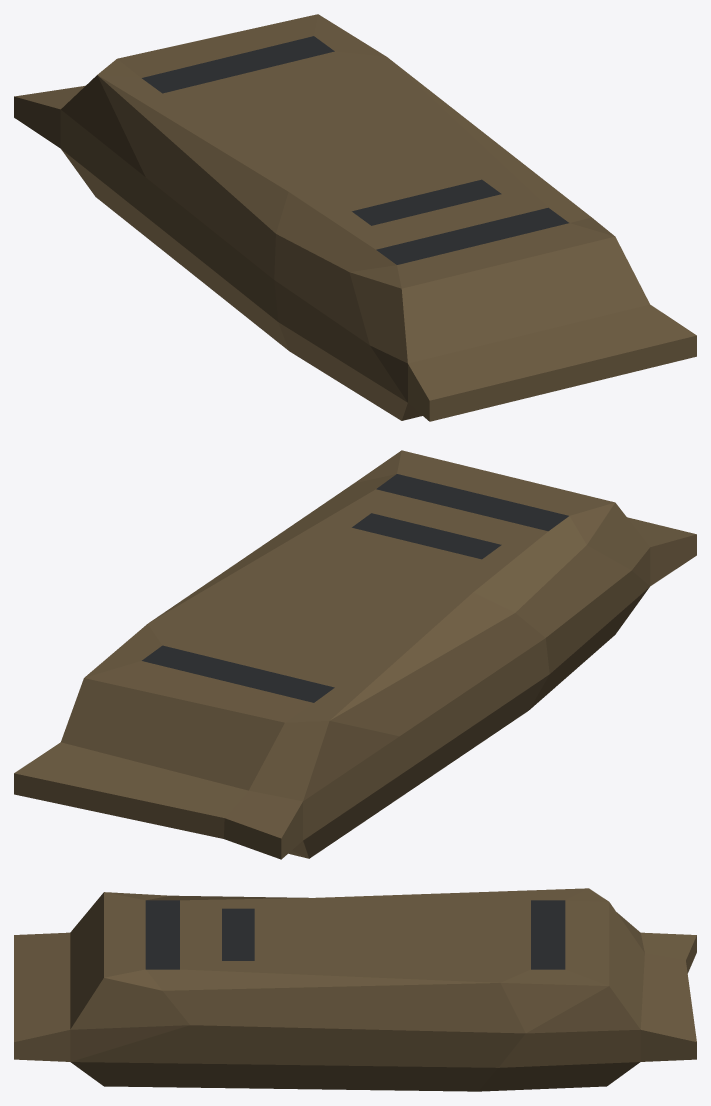
Rendered from SM_Item_Meal_Bar_01.fbx.
The picture shows the model from 3 angles, top to bottom: view 1: azimuth 30°, elevation 25°; view 2: azimuth 150°, elevation 25°; view 3: azimuth 270°, elevation 25°; orthographic projection. The views are drawn at different scales.
Visible parts, largest first — view 1: SM_Item_Meal_Bar_01; view 2: SM_Item_Meal_Bar_01; view 3: SM_Item_Meal_Bar_01.
Part boxes in pixels (left/top/right/bottom): SM_Item_Meal_Bar_01: left=14, top=14, right=696, bottom=421; SM_Item_Meal_Bar_01: left=14, top=450, right=696, bottom=859; SM_Item_Meal_Bar_01: left=14, top=888, right=696, bottom=1091.
Size of the model in its own units: 12.45 by 5.69 by 32.41.
